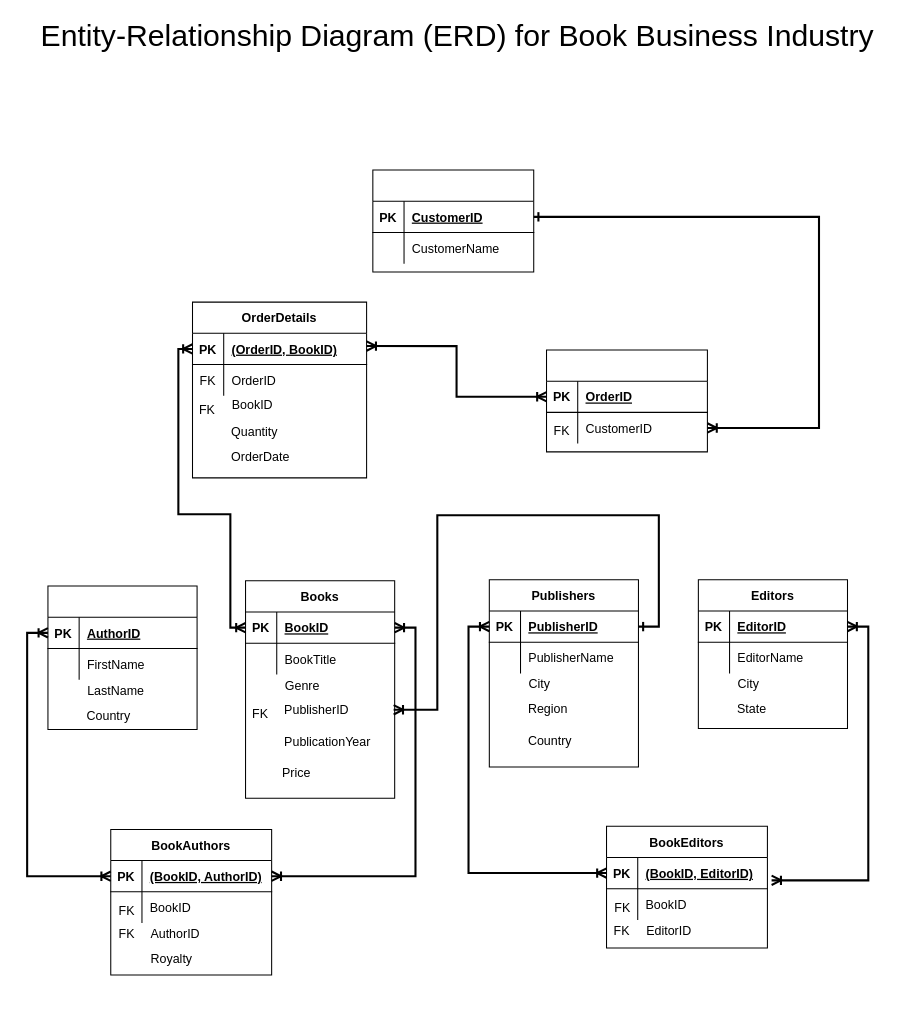
The diagram is 905 pixels wide and 1023 high, and some of its shapes have lost their labels. Here are the shapes that lost their labels. From the top down, the box of each, then its label:
(372, 169, 534, 272): Customers
(545, 349, 707, 452): Orders
(47, 585, 197, 730): Authors
